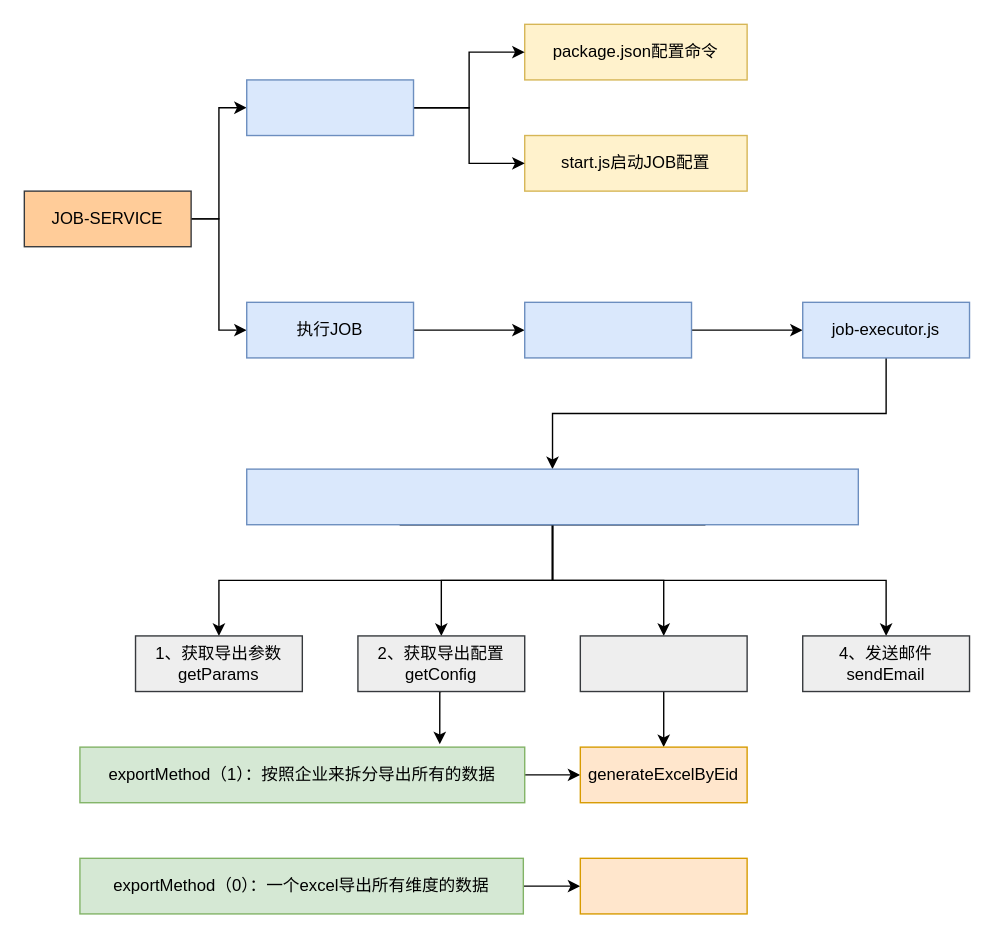
The diagram is 994 pixels wide and 938 high, and some of its shapes have lost their labels. The shapes that lost their labels are listed below. From the top down, each one's centre as x and y in pixels, then its label:
At [329,107]: "启动JOB".
At [607,329]: "对应JOB类型的 child-processor.js".
At [551,496]: "执行具体的job（如：export-batch-search-zz.js）".
At [663,663]: "3、生成excel文件".
At [663,885]: "generateExcel".
